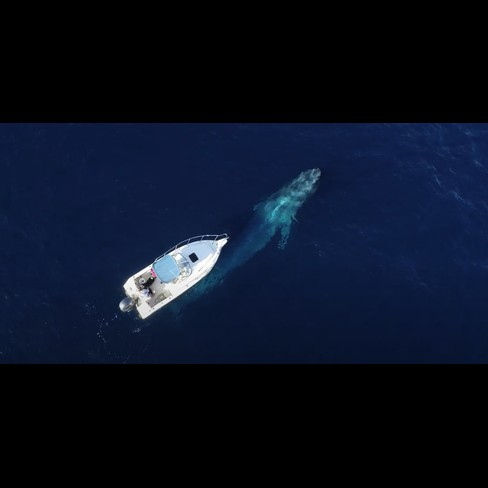bluewhale: (170, 164, 326, 317)
boat: (114, 229, 231, 327)
